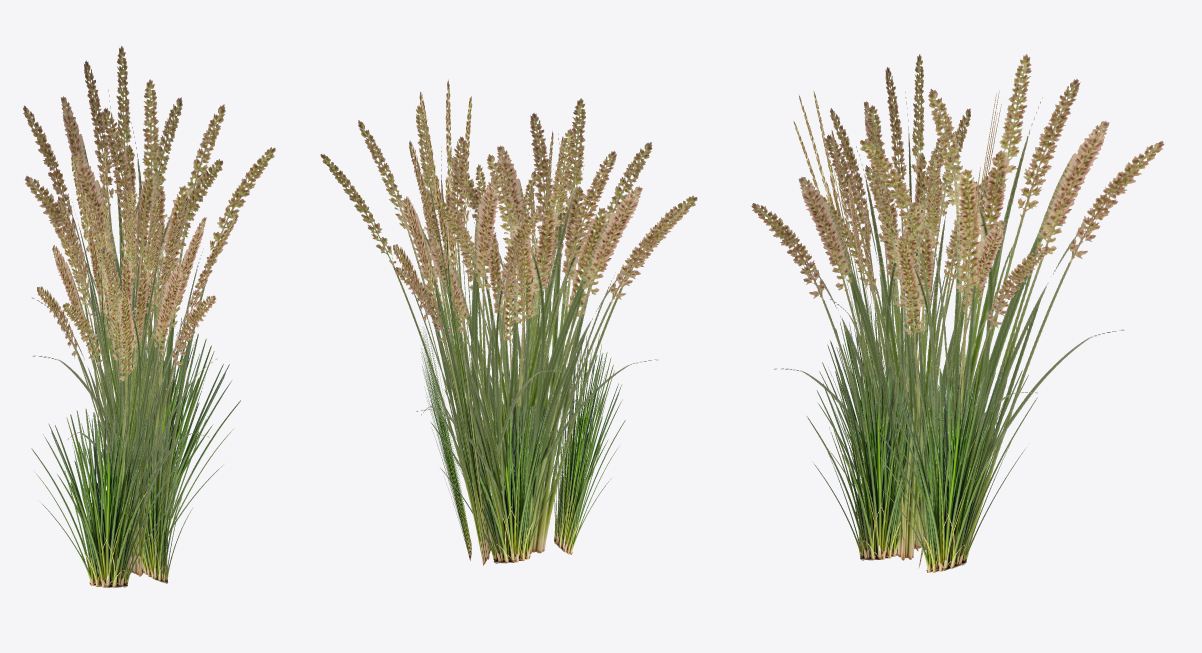
Rendered from grass_clump_02.gltf.
3 renders of one model, left to right at view 1: azimuth 30°, elevation 25°; view 2: azimuth 150°, elevation 25°; view 3: azimuth 270°, elevation 25°, orthographic. The views are drawn at different scales.
Visible parts, largest first — view 1: grass_clump_02; view 2: grass_clump_02; view 3: grass_clump_02.
Boxes of the visible parts, bbox=[...] form: grass_clump_02: bbox=[23, 46, 275, 587]; grass_clump_02: bbox=[320, 79, 697, 565]; grass_clump_02: bbox=[751, 54, 1164, 572].
Size of the model in its own units: 0.6333 by 0.9458 by 0.6913.
1 material, 1 textured.
